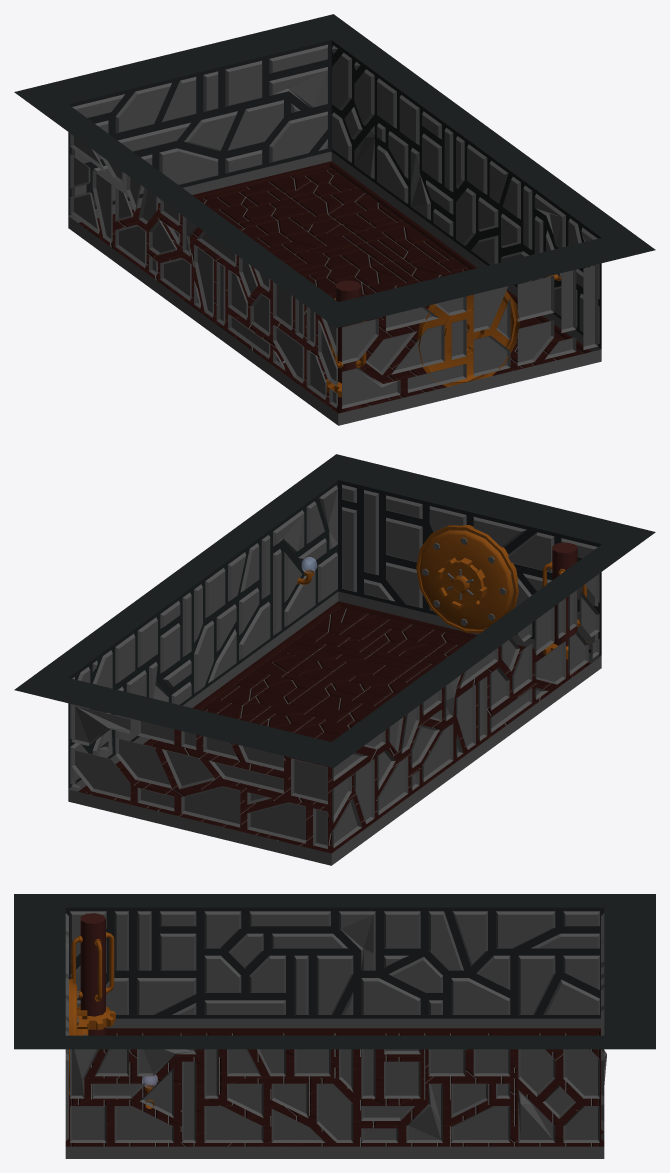
File: Room2.FBX
The picture shows the model from 3 angles, top to bottom: view 1: azimuth 30°, elevation 25°; view 2: azimuth 150°, elevation 25°; view 3: azimuth 270°, elevation 25°; orthographic projection.
Visible parts, largest first — view 1: Walls, Floor, Door, Stalp_01; view 2: Walls, Floor, Door, Stalp_01; view 3: Walls, Floor, Stalp_01, Door, Stalp_Gear.
Boxes of the visible parts, x1,y1,x2,y2 form: Walls: [14, 14, 655, 425]; Floor: [78, 161, 591, 413]; Door: [416, 288, 519, 386]; Stalp_01: [330, 280, 366, 412]; Walls: [14, 454, 655, 865]; Floor: [78, 601, 591, 853]; Door: [416, 525, 518, 633]; Stalp_01: [542, 542, 586, 676]; Walls: [14, 894, 655, 1158]; Floor: [65, 1028, 604, 1146]; Stalp_01: [71, 913, 114, 1035]; Door: [69, 979, 88, 1094]; Stalp_Gear: [77, 1006, 115, 1029].
Size of the model in its own units: 1093 by 406 by 1908.
